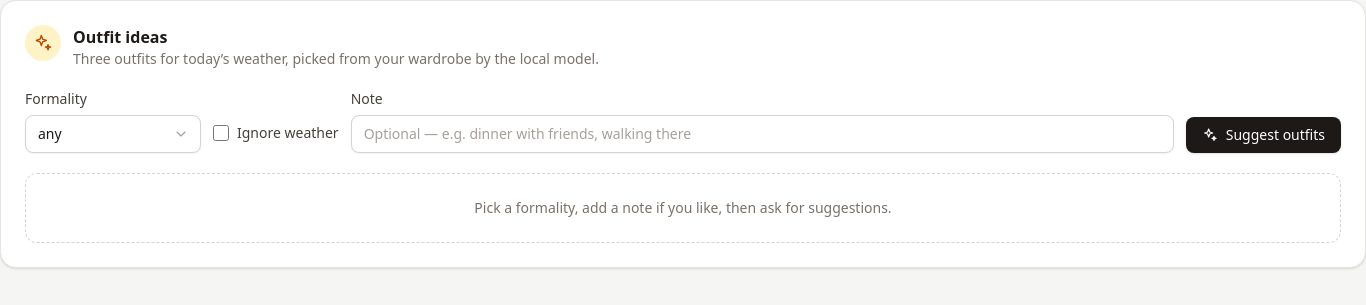
ING-050 - tester edge cases › does not crash on an outfit with no items array
Click the button "Suggest outfits" at (1263, 135), box x1=1186 y1=117 x2=1341 y2=153
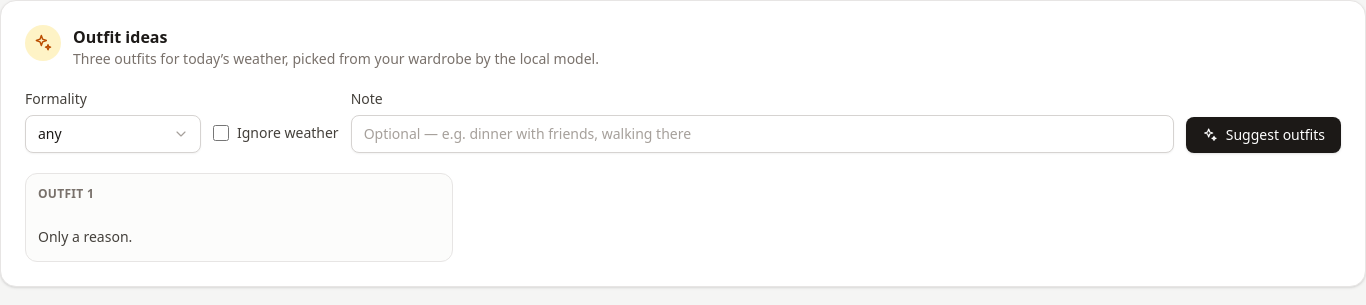
Check: the text "Only a reason." is shown, box x1=38 y1=227 x2=132 y2=246
